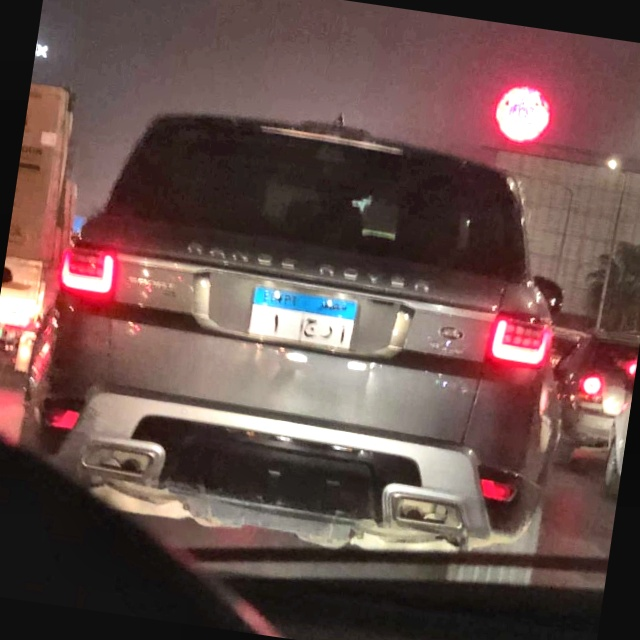License Plate: (244, 280, 360, 353)
